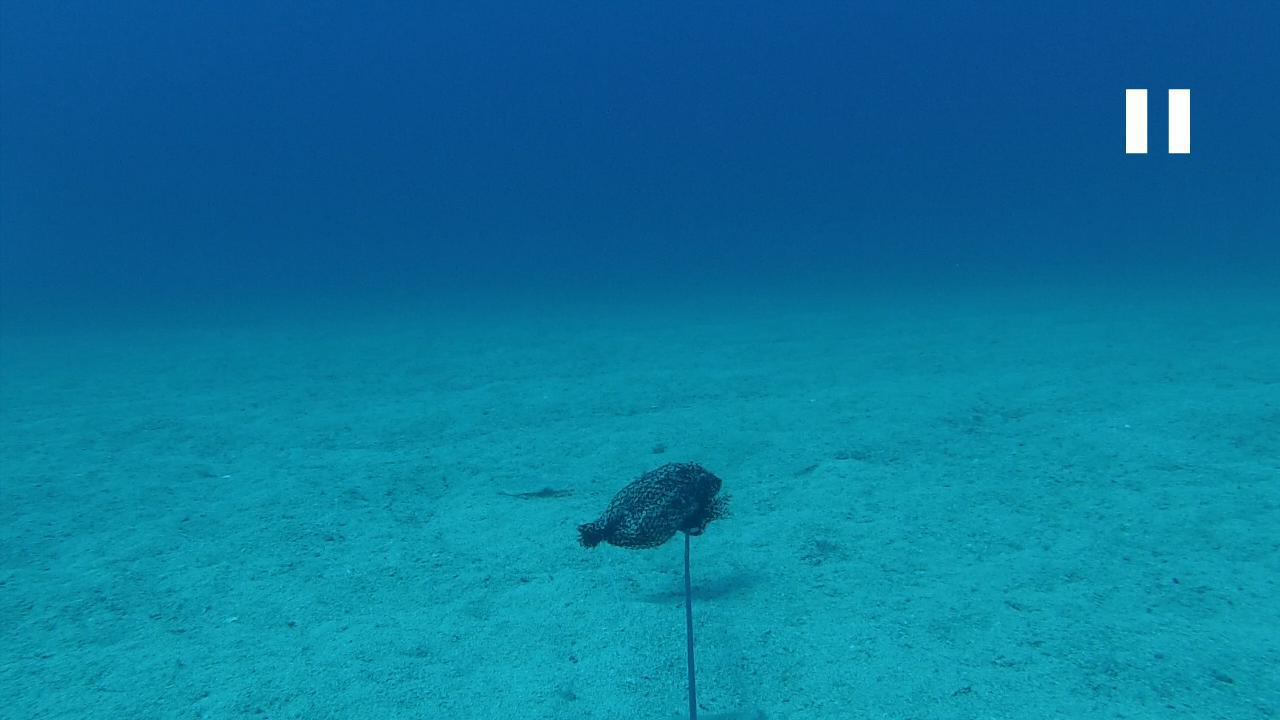bothus: (492, 475, 575, 504)
